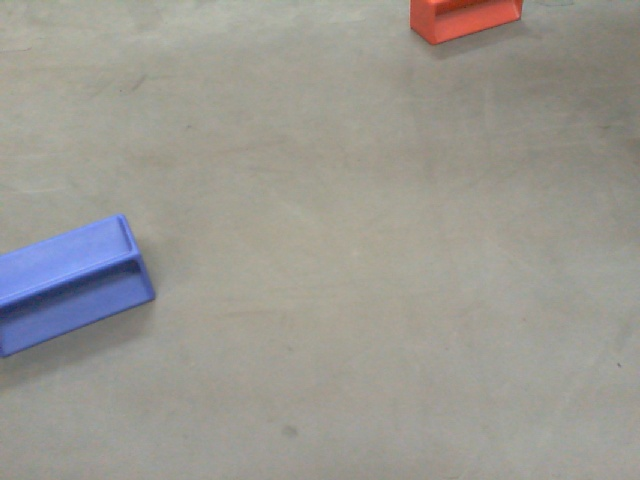BlueSample: (1, 212, 157, 360)
RedSample: (403, 1, 527, 47)
